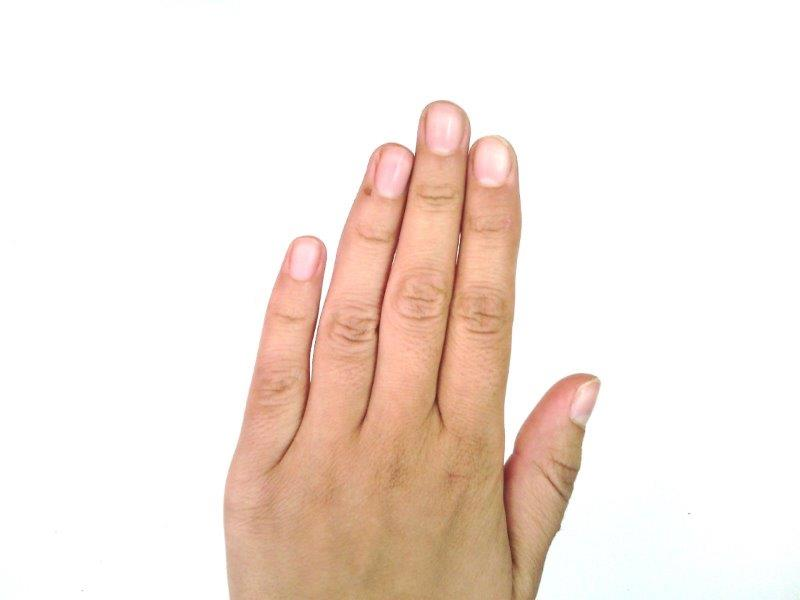hand: (222, 100, 601, 597)
